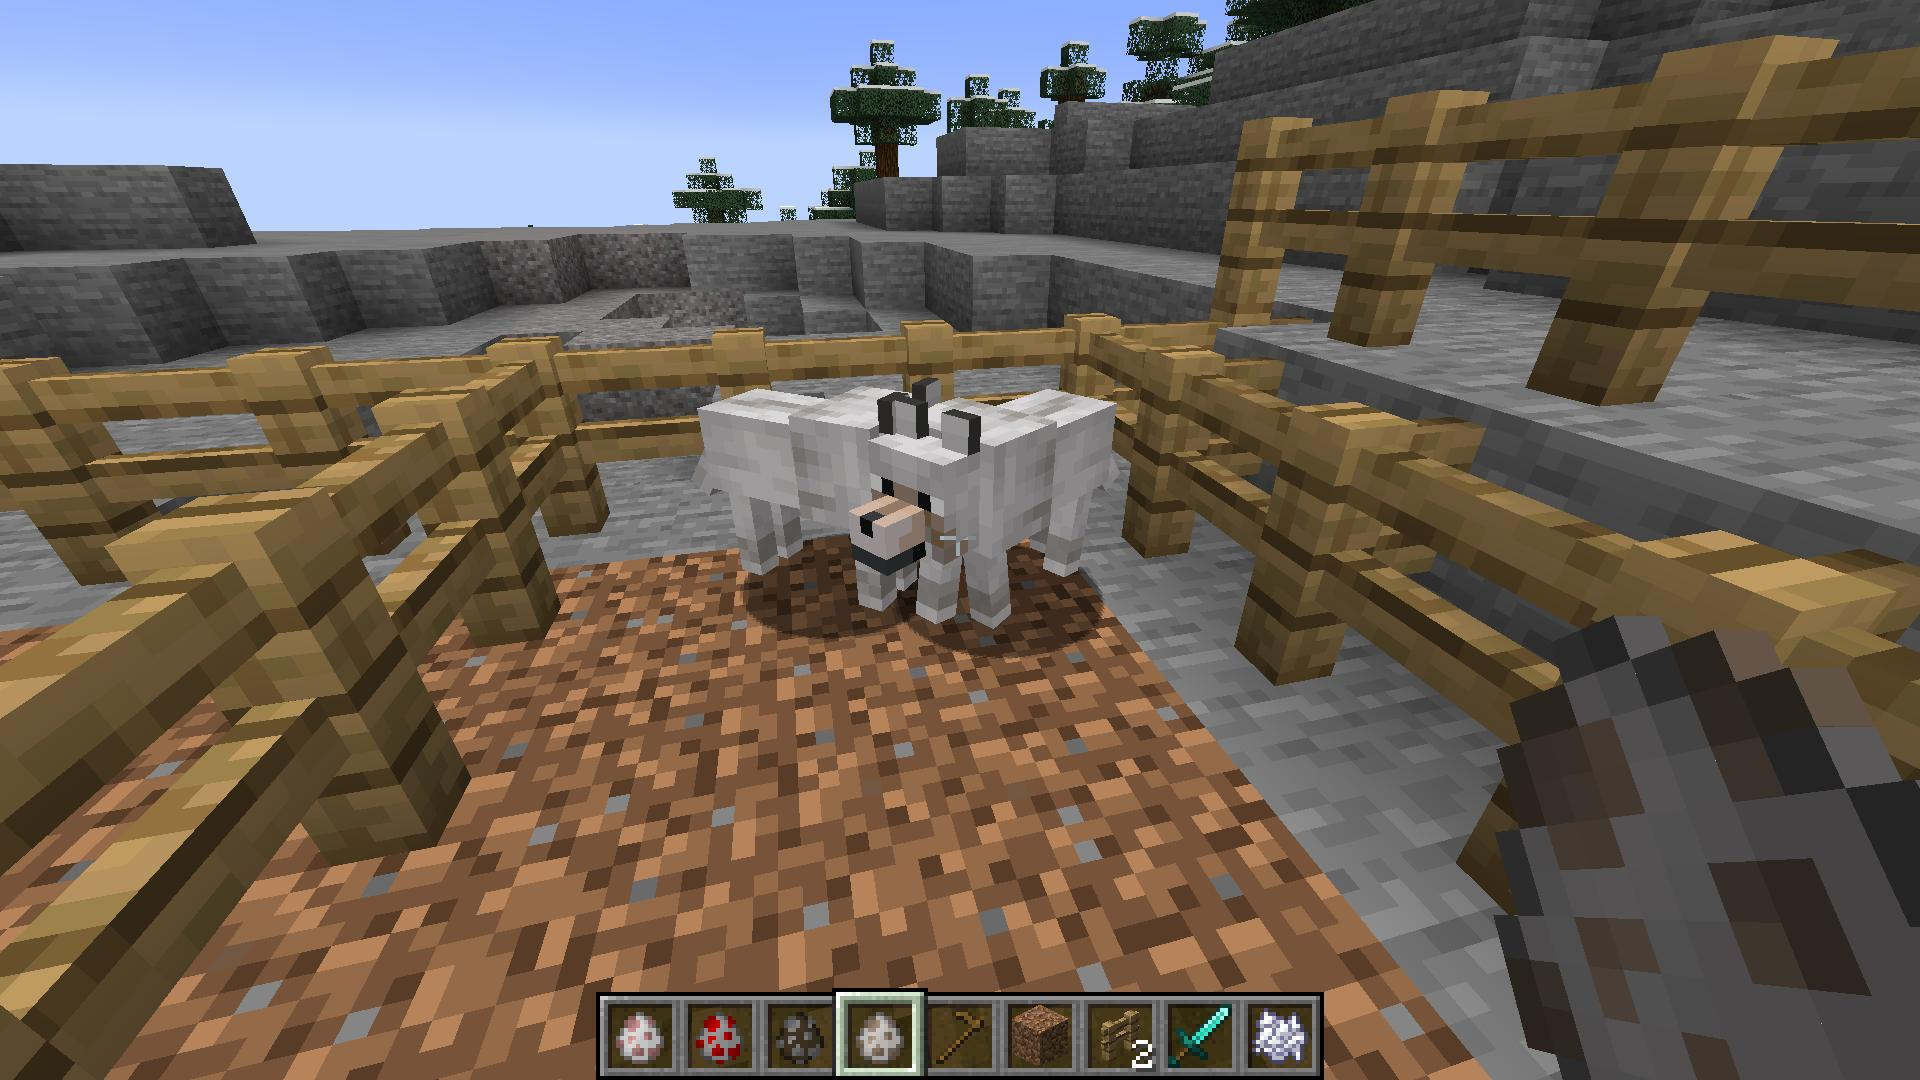wolf: (853, 381, 1127, 638), (687, 376, 913, 615)
